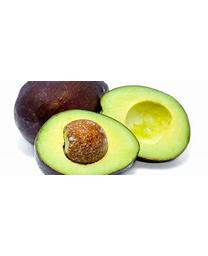avocado: (98, 85, 191, 164), (34, 109, 141, 176), (13, 81, 109, 148)
